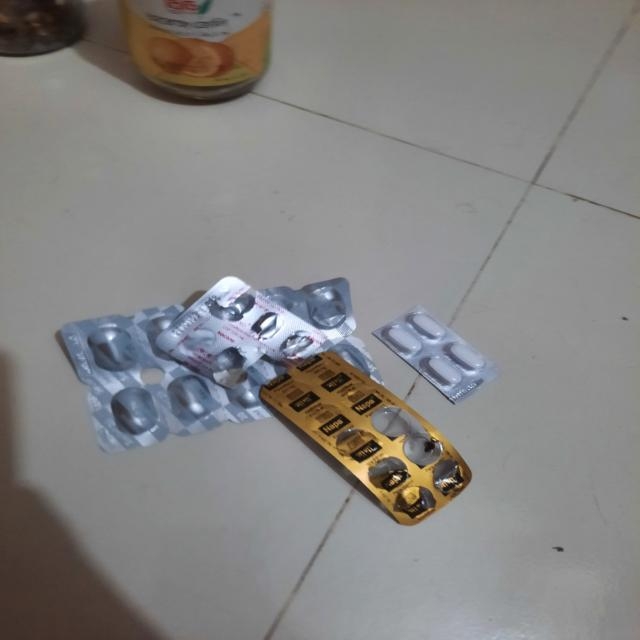Medical Waste: (23, 256, 541, 522)
